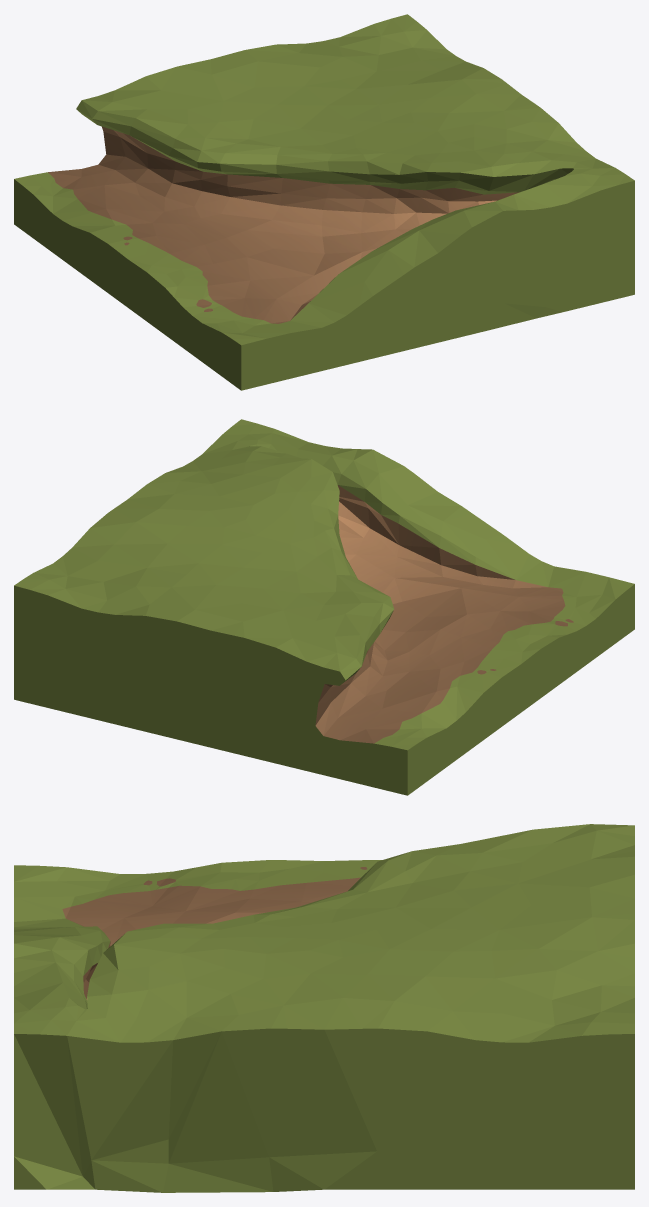
The model's file is Terrian_CliffGrass_Flat_RampCap-01.fbx.
The picture shows the model from 3 angles, top to bottom: view 1: azimuth 30°, elevation 25°; view 2: azimuth 150°, elevation 25°; view 3: azimuth 270°, elevation 25°; orthographic projection. The views are drawn at different scales.
Parts seen in each view (by area): view 1: Terrian_CliffGrass_Flat_RampCap-01; view 2: Terrian_CliffGrass_Flat_RampCap-01; view 3: Terrian_CliffGrass_Flat_RampCap-01.
Boxes of the visible parts, x1=… form: Terrian_CliffGrass_Flat_RampCap-01: x1=14, y1=14, x2=634, y2=390; Terrian_CliffGrass_Flat_RampCap-01: x1=14, y1=419, x2=634, y2=795; Terrian_CliffGrass_Flat_RampCap-01: x1=14, y1=824, x2=634, y2=1192.
Bounding box in the file's own units: 3600 × 1150 × 3600.
1 material, 1 textured.
